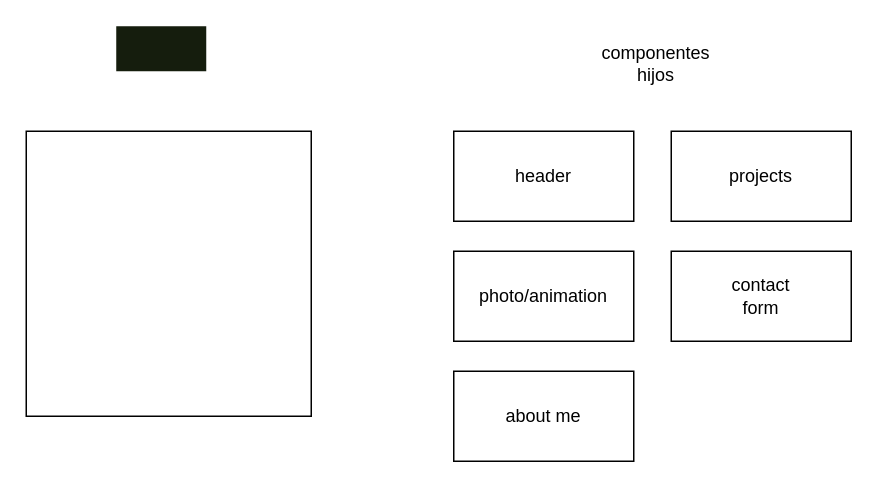
The diagram is 878 pixels wide and 488 high, and some of its shapes have lost their labels. The box of each missing label's shape, as (x1, y1, x2, y2) in pixels:
componente padre: (116, 26, 206, 70)
home: (25, 130, 311, 416)
